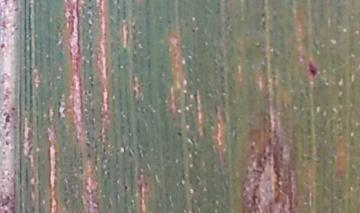tarspot: (306, 57, 321, 82), (121, 183, 131, 193), (176, 129, 185, 139)
